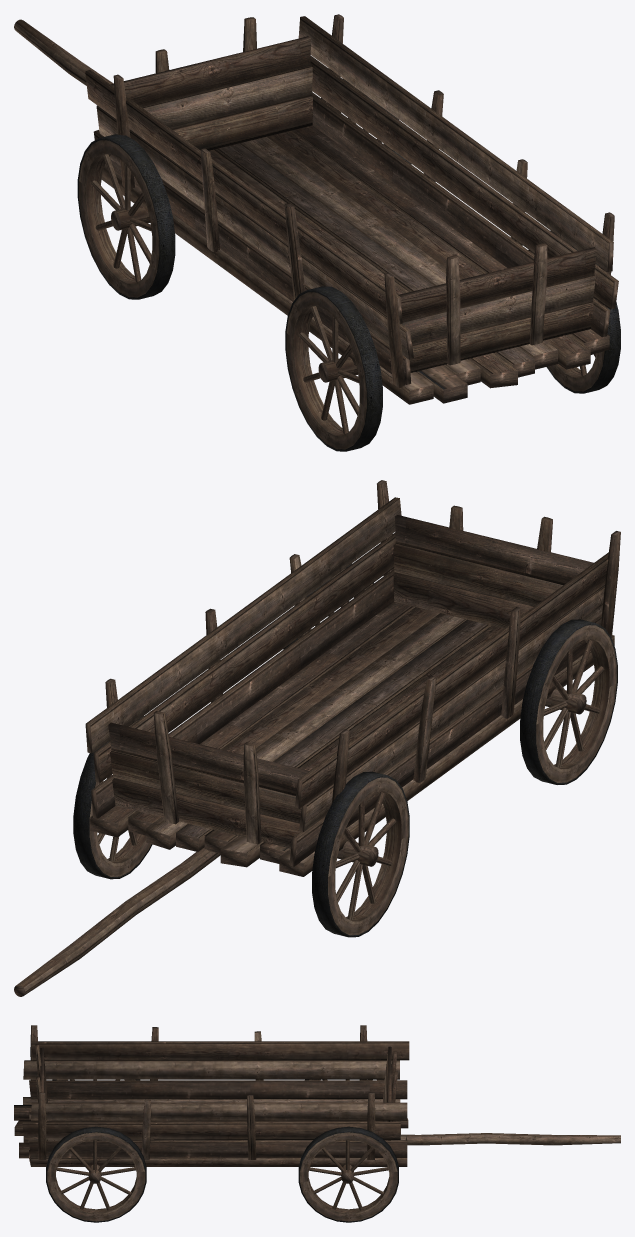
The model's file is Wagon -01.fbx.
The picture shows the model from 3 angles, top to bottom: view 1: azimuth 30°, elevation 25°; view 2: azimuth 150°, elevation 25°; view 3: azimuth 270°, elevation 25°; orthographic projection. The views are drawn at different scales.
Visible parts, largest first — view 1: Cube_021, Cube; view 2: Cube_021, Cube; view 3: Cube_021, Cube.
Boxes of the visible parts, bbox=[...] form: Cube_021: bbox=[14, 14, 618, 404]; Cube: bbox=[77, 79, 620, 451]; Cube_021: bbox=[14, 480, 620, 996]; Cube: bbox=[73, 563, 617, 937]; Cube_021: bbox=[14, 1025, 620, 1166]; Cube: bbox=[46, 1079, 398, 1222].
Bounding box in the file's own units: 8.34 × 6.29 × 27.63.
Materials: 1 (1 with a texture image).
